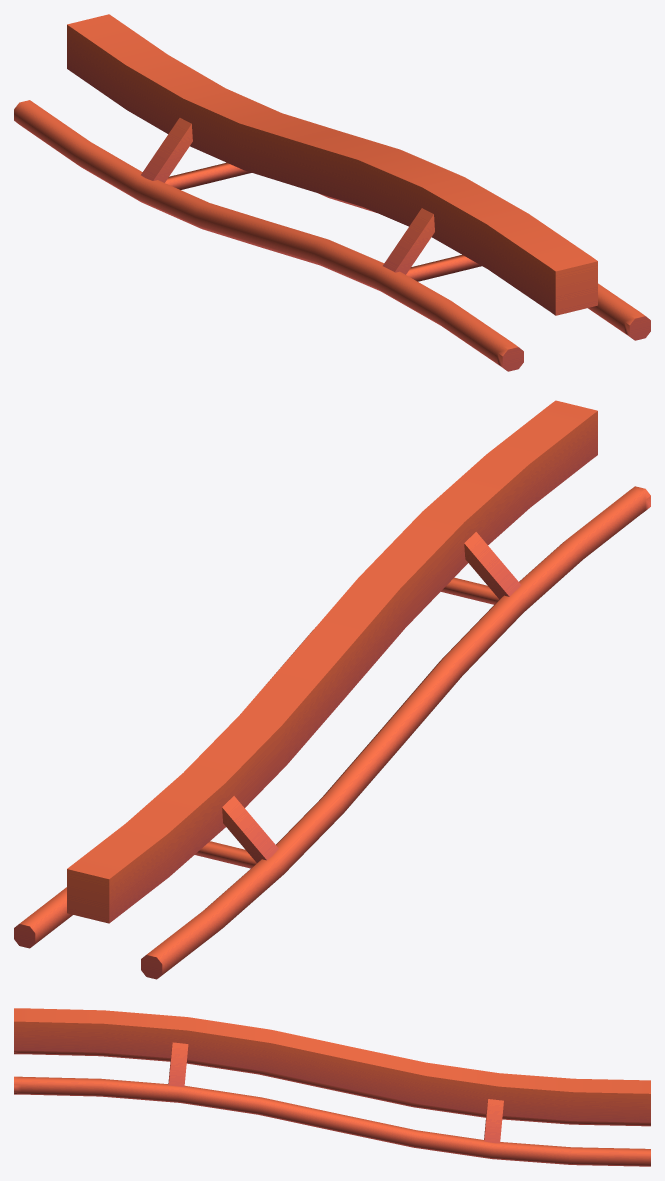
The model's file is coaster-hanging-straight-hill-complete-half.glb.
3 views of the same model, one above another, from view 1: azimuth 30°, elevation 25°; view 2: azimuth 150°, elevation 25°; view 3: azimuth 270°, elevation 25° (orthographic). The views are drawn at different scales.
Visible parts, largest first — view 1: coaster-hanging-straight-hill-complete-half; view 2: coaster-hanging-straight-hill-complete-half; view 3: coaster-hanging-straight-hill-complete-half.
Boxes of the visible parts, left/top/right/bottom form: coaster-hanging-straight-hill-complete-half: left=14, top=14, right=650, bottom=371; coaster-hanging-straight-hill-complete-half: left=14, top=400, right=650, bottom=979; coaster-hanging-straight-hill-complete-half: left=14, top=1008, right=650, bottom=1166.
Size of the model in its own units: 2.1 by 2.7 by 12.
Materials: 1 (1 with a texture image).
